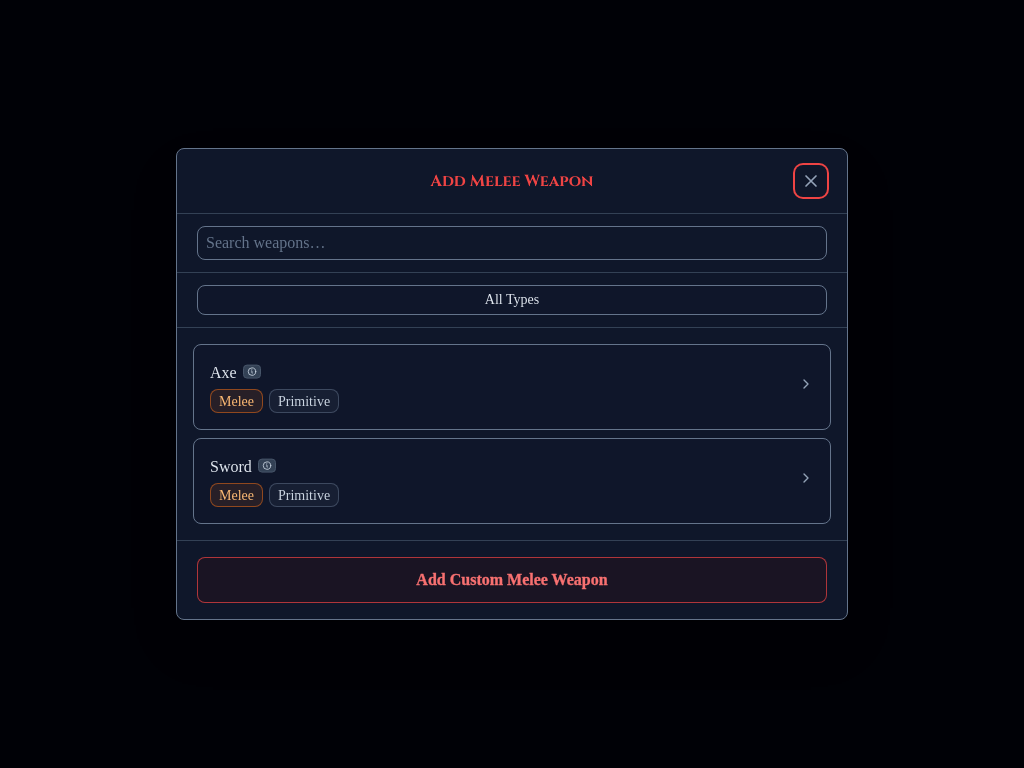
Test: MeleePicker › shows the craftsmanship screen after selecting a weapon
The width and height of the screenshot is (1024, 768).
Click the button named "Select Sword" at x=512, y=481, box [194, 439, 830, 523]
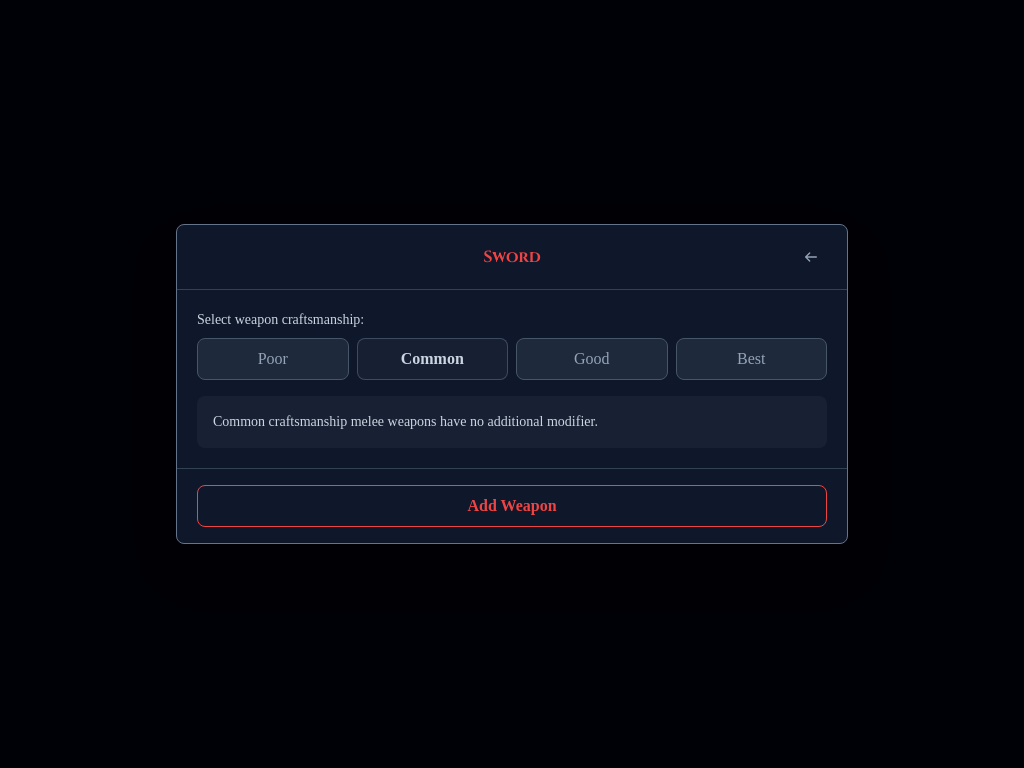
expect the text "Select weapon craftsmanship:" is shown: met, box [197, 312, 364, 327]
expect the button "Poor" is shown: met, box [197, 338, 348, 380]
expect the button "Common" is shown: met, box [356, 338, 508, 380]
